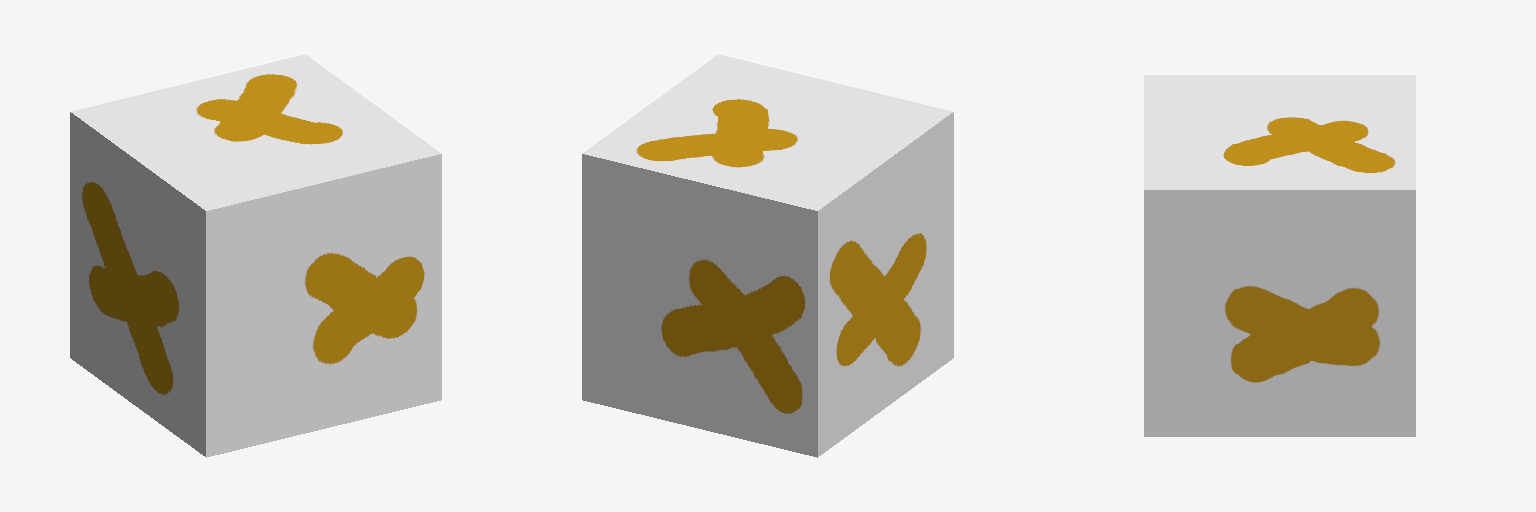
3 renders of one model, left to right at view 1: azimuth 30°, elevation 25°; view 2: azimuth 150°, elevation 25°; view 3: azimuth 270°, elevation 25°, orthographic.
Visible parts, largest first — view 1: Cube; view 2: Cube; view 3: Cube.
Part boxes in pixels (x1,y1,x2,y2): Cube: (70,54,441,457); Cube: (582,54,953,457); Cube: (1144,75,1415,436).
Bounding box in the file's own units: 2 × 2 × 2.
Materials: 1 (1 with a texture image).